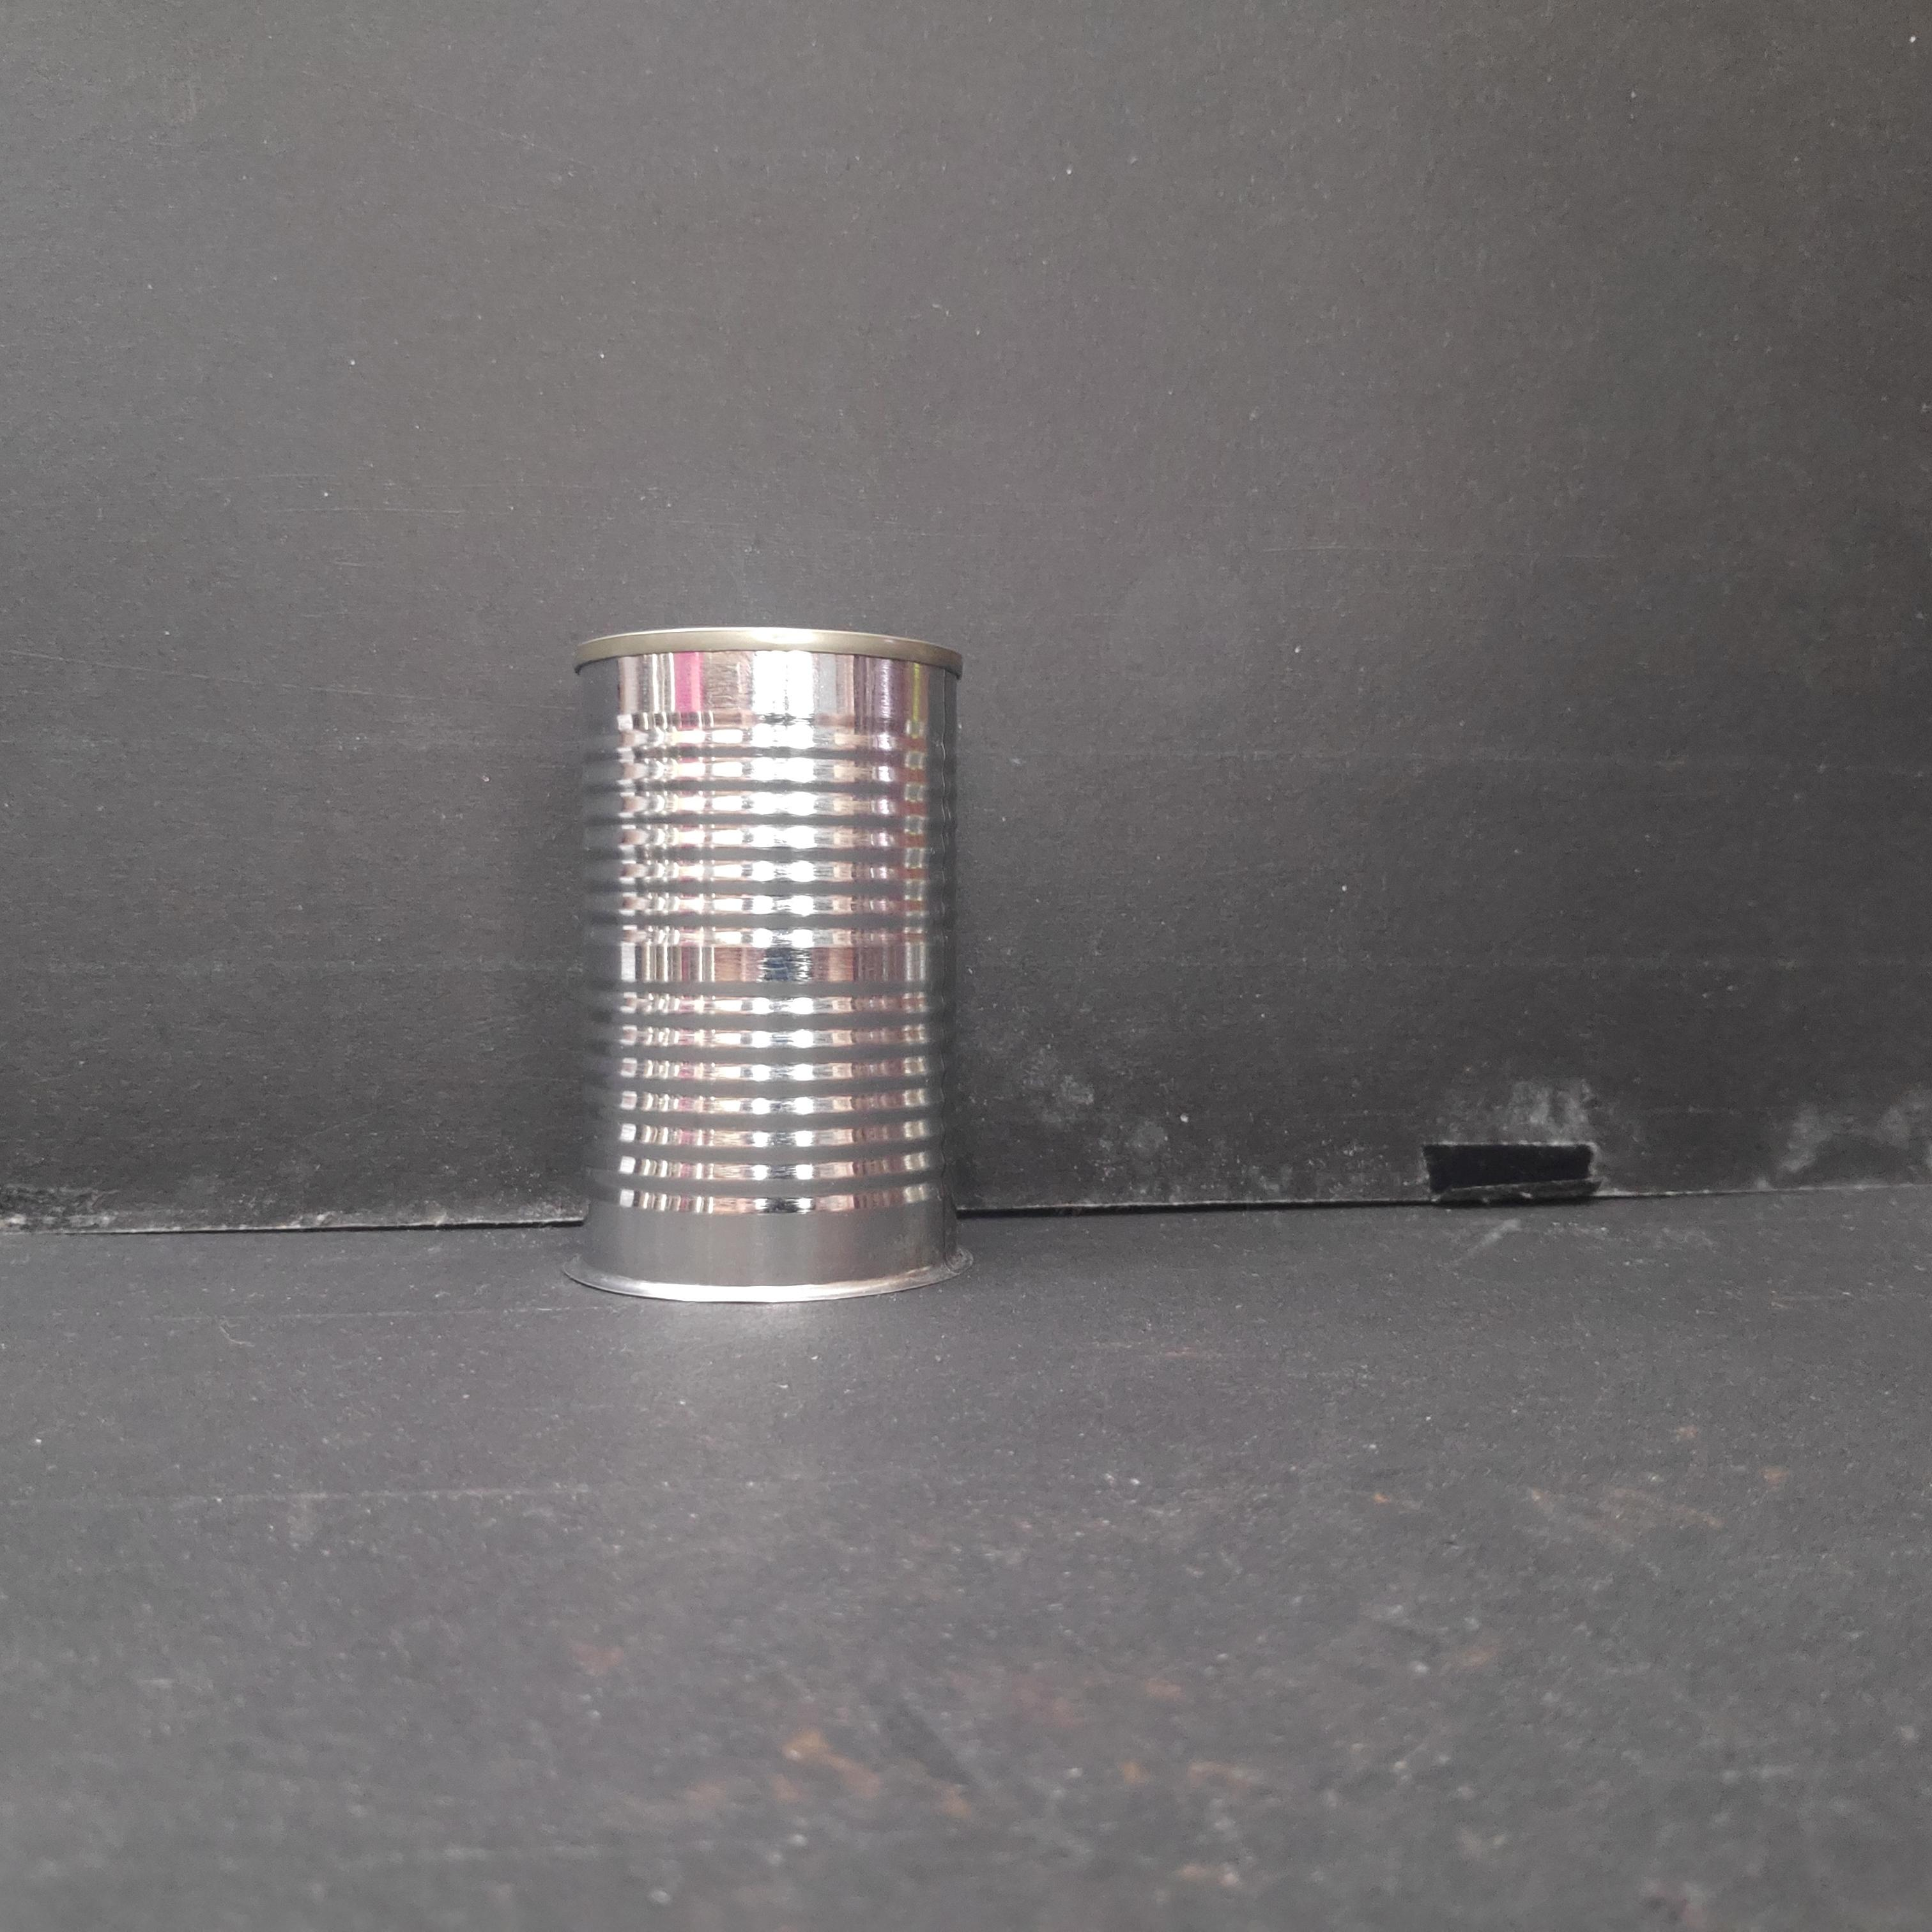No defect: (557, 617, 978, 1315)
